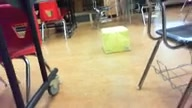cube: (101, 25, 131, 53)
